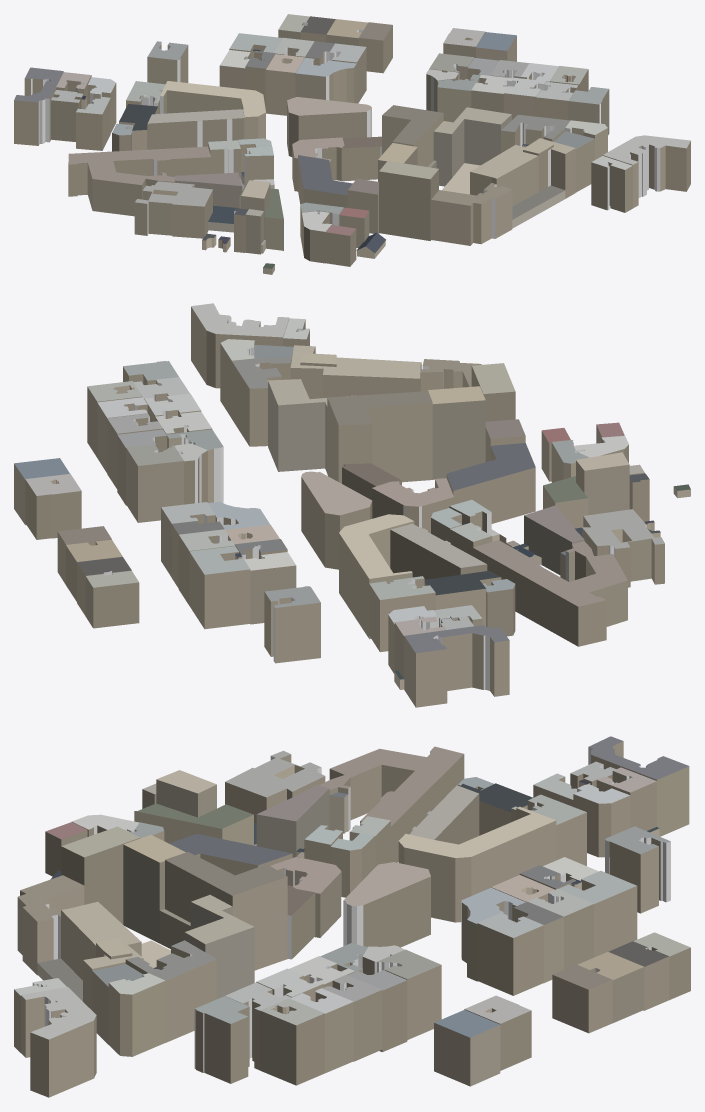
3 views of the same model, one above another, from view 1: azimuth 30°, elevation 25°; view 2: azimuth 150°, elevation 25°; view 3: azimuth 270°, elevation 25° (orthographic). The views are drawn at different scales.
Visible parts, largest first — view 1: tuile; view 2: tuile; view 3: tuile.
Boxes of the visible parts, x1,y1,x2,y2 form: tuile: (14,14,690,274); tuile: (14,303,690,707); tuile: (14,736,690,1097).
Bounding box in the file's own units: 289 × 38.86 × 266.
